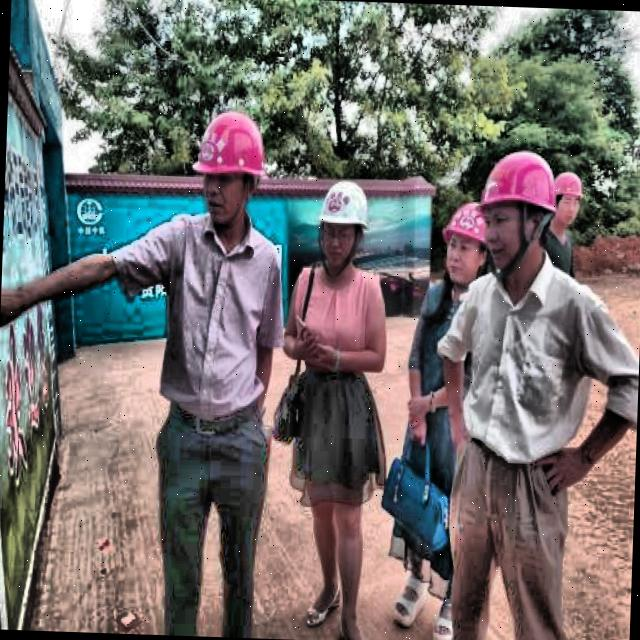helmet: (480, 144, 560, 278), (192, 102, 272, 228), (308, 172, 375, 274), (435, 200, 492, 290), (548, 167, 584, 231)
